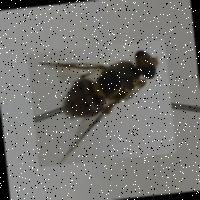Oriental-fruit-fly: (27, 39, 176, 167)
